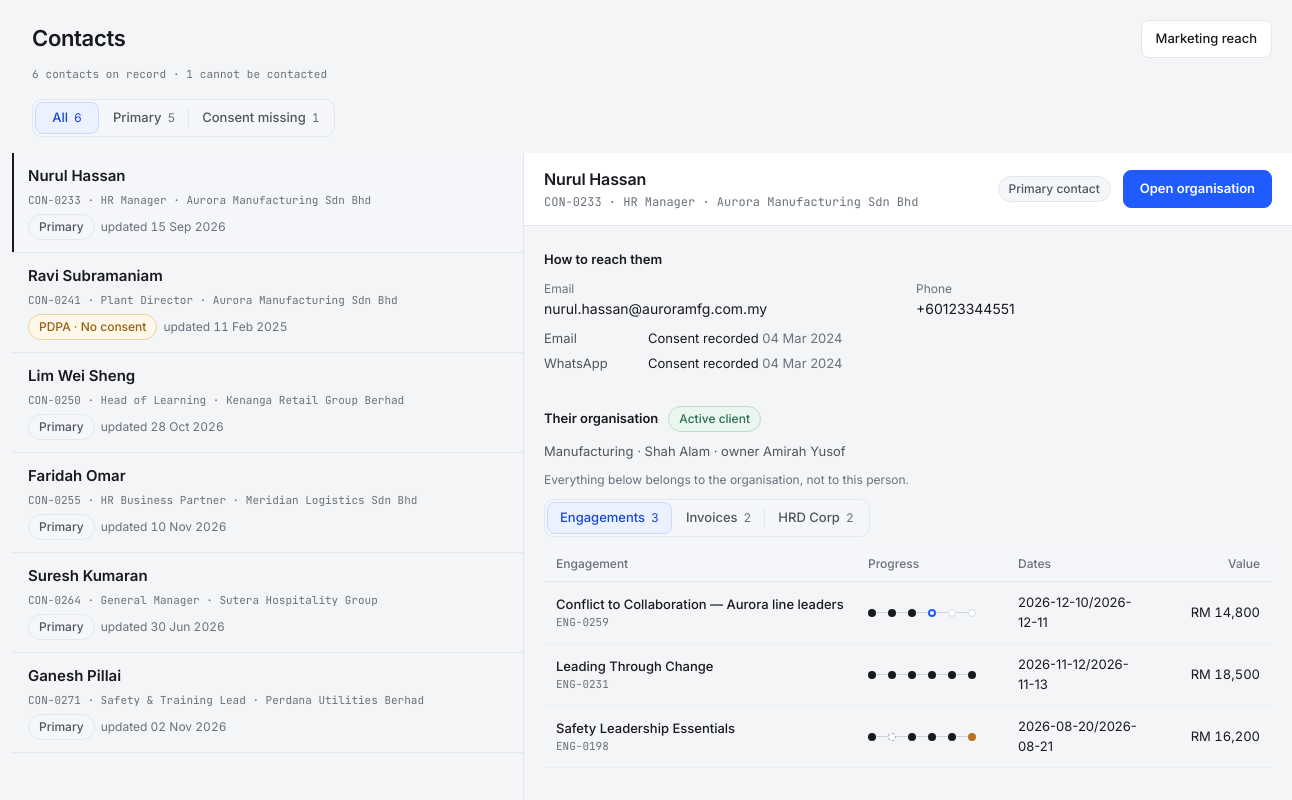
Test: Sales › Contacts › narrows to the people with no consent, and counts them in the header
This screenshot has width=1292, height=800.
Expected: the text "6 contacts on record · 1 cannot be contacted" is shown, [32,66,327,80]
Click the tab "Consent missing 1".
click(261, 118)  # box [189,102,332,134]
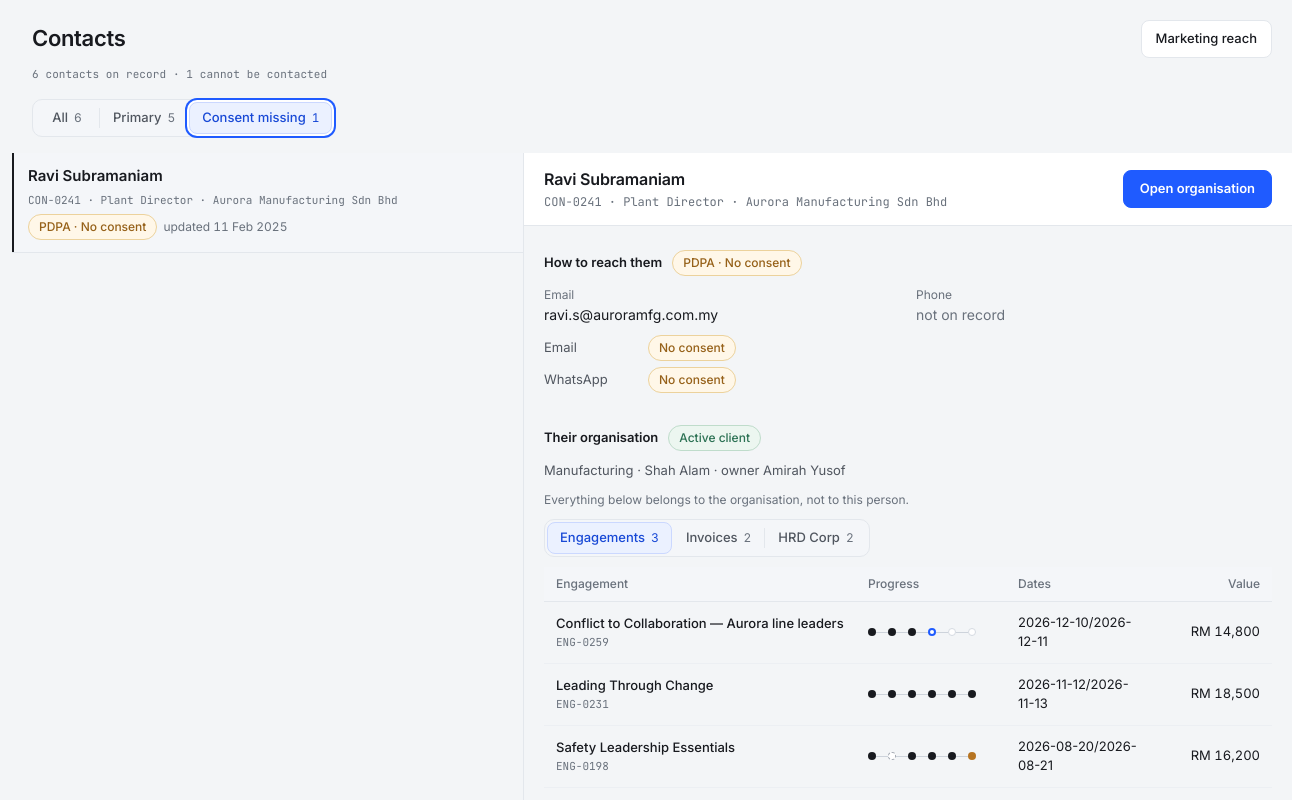
Expected: the text "Ravi Subramaniam" is shown, [28,165,163,188]
Expected: the button "Nurul Hassan" is gone
